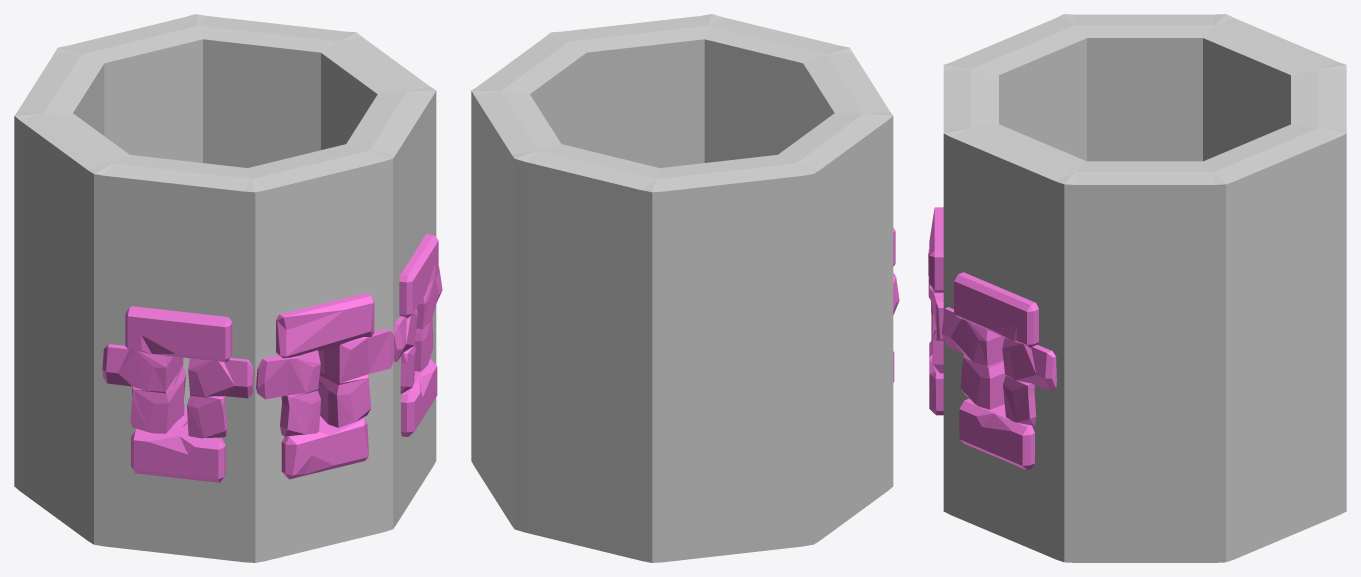
The model's file is SM_Tower_Round_3m_Windows_Fantasy.fbx.
3 views of the same model, side by side, from view 1: azimuth 30°, elevation 25°; view 2: azimuth 150°, elevation 25°; view 3: azimuth 270°, elevation 25° (orthographic).
Visible parts, largest first — view 1: SM_Tower_Round_3m_Windows_Fantasy; view 2: SM_Tower_Round_3m_Windows_Fantasy; view 3: SM_Tower_Round_3m_Windows_Fantasy.
Boxes of the visible parts, x1,y1,x2,y2 form: SM_Tower_Round_3m_Windows_Fantasy: (14,14,442,562); SM_Tower_Round_3m_Windows_Fantasy: (471,14,899,562); SM_Tower_Round_3m_Windows_Fantasy: (928,14,1346,562).
Size of the model in its own units: 2.9 by 3.01 by 3.01.
